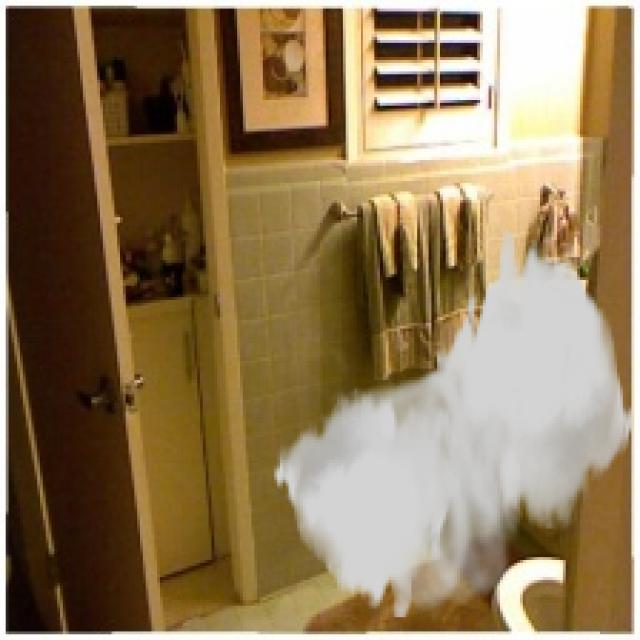smoke: (272, 231, 634, 620)
